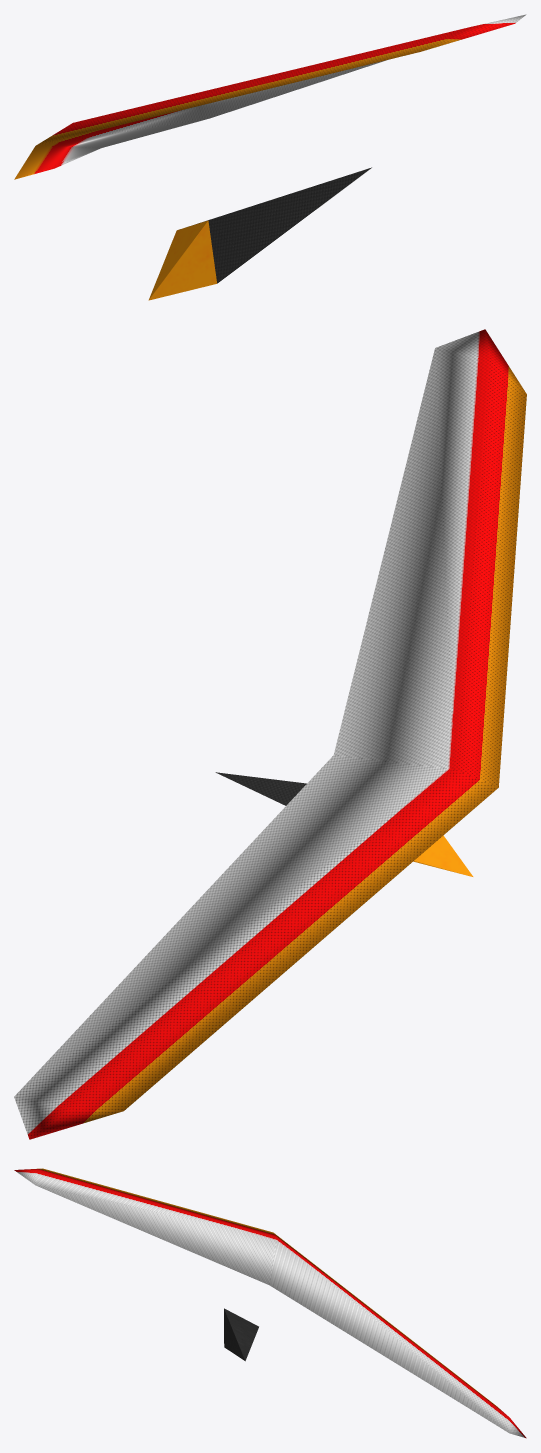
The model's file is hang-glider-red-thermal-cbj_LOD03.gltf.
3 renders of one model, top to bottom at view 1: azimuth 30°, elevation 25°; view 2: azimuth 150°, elevation 25°; view 3: azimuth 270°, elevation 25°, orthographic. The views are drawn at different scales.
Visible parts, largest first — view 1: hang-glider00; view 2: hang-glider00; view 3: hang-glider00.
Boxes of the visible parts, box(x1,y1,x2,y2) form: hang-glider00: box(14, 14, 526, 300); hang-glider00: box(14, 329, 526, 1139); hang-glider00: box(14, 1168, 526, 1438).
Size of what is drawn, in the model's own units: 3.41 by 5.03 by 8.71.
